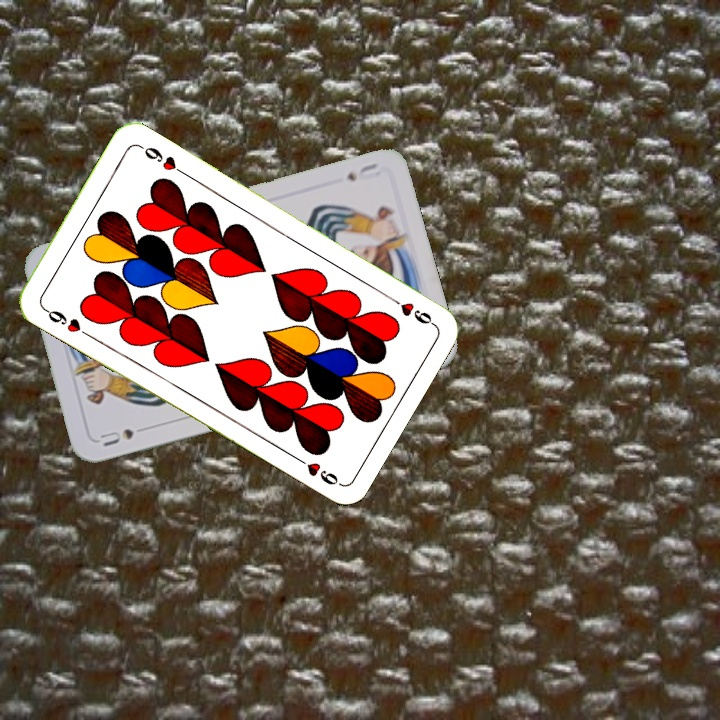H9: (39, 303, 92, 340), (383, 291, 436, 328)
SU: (95, 424, 136, 449), (342, 159, 383, 184)
